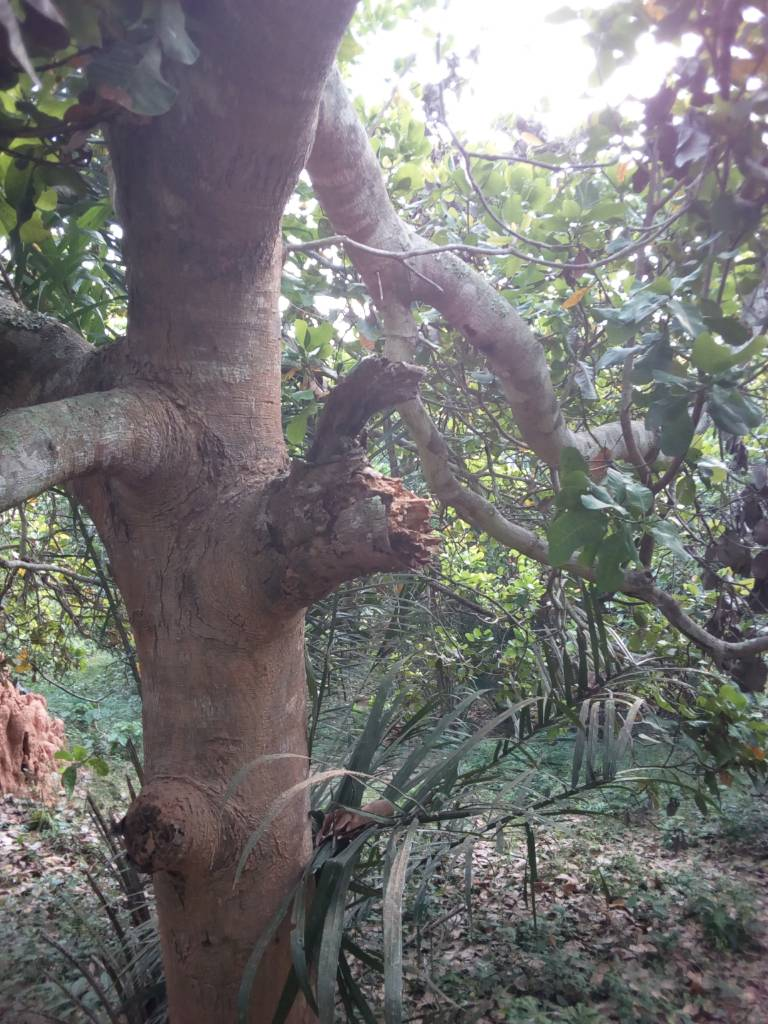Termites: (130, 761, 297, 1007), (304, 399, 435, 588)
